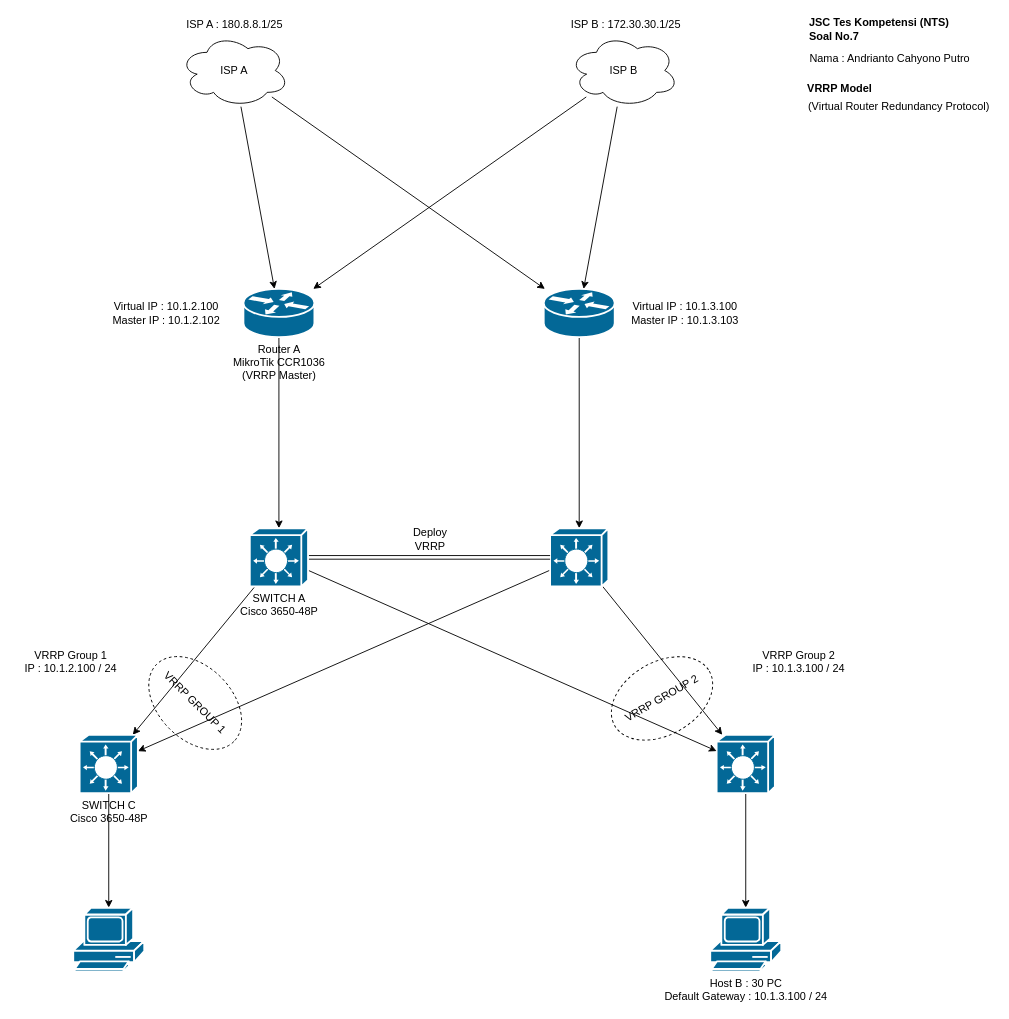
Image size: 1009x1019. Some labels were removed from this diagram. Here are the shapes that lost their labels. From the top down, the centre of each, then its label:
At point 578,313: "Router B MikroTik CCR1036 (VRRP Backup)".
At point 579,557: "SWITCH B Cisco 3650-48P".
At point 745,763: "SWICTH D Cisco 3650-48P".
At point 108,939: "Host A : 30 PC Default Gateway : 10.1.2.100 / 24".
